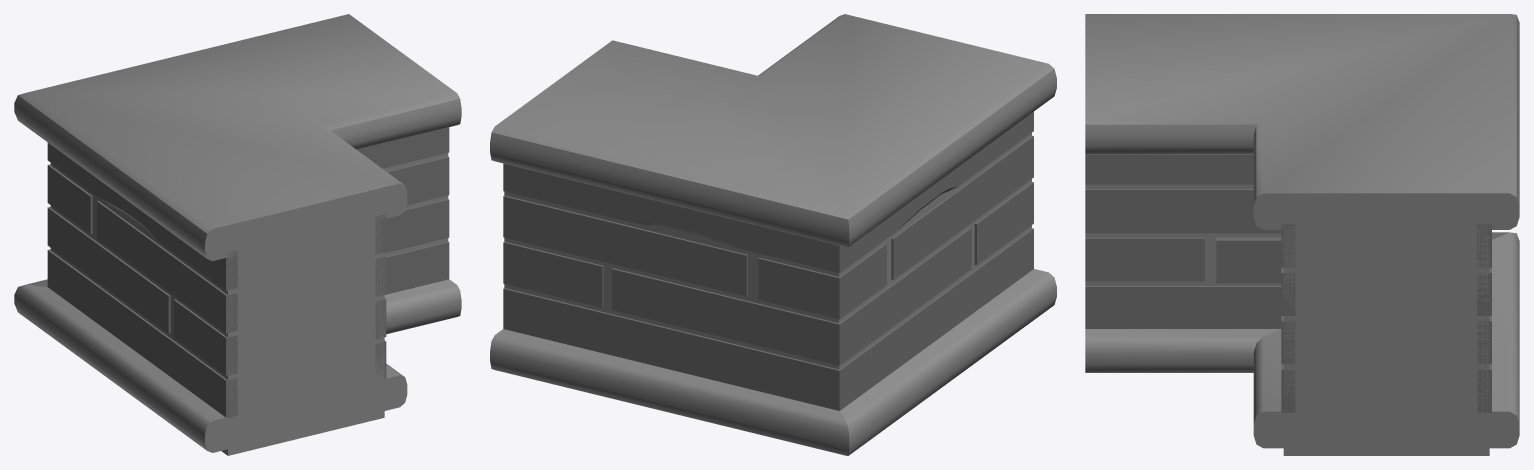
Rendered from space_counter_corner.glb.
The picture shows the model from 3 angles, left to right: view 1: azimuth 30°, elevation 25°; view 2: azimuth 150°, elevation 25°; view 3: azimuth 270°, elevation 25°; orthographic projection. The views are drawn at different scales.
Parts seen in each view (by area): view 1: Environment_Counter_Corner; view 2: Environment_Counter_Corner; view 3: Environment_Counter_Corner.
Boxes of the visible parts, x1,y1,x2,y2 form: Environment_Counter_Corner: [14, 14, 461, 455]; Environment_Counter_Corner: [490, 14, 1056, 455]; Environment_Counter_Corner: [1085, 14, 1519, 455].
Size of the model in its own units: 2.88 by 1.92 by 2.88.
Materials: 1 (1 with a texture image).
